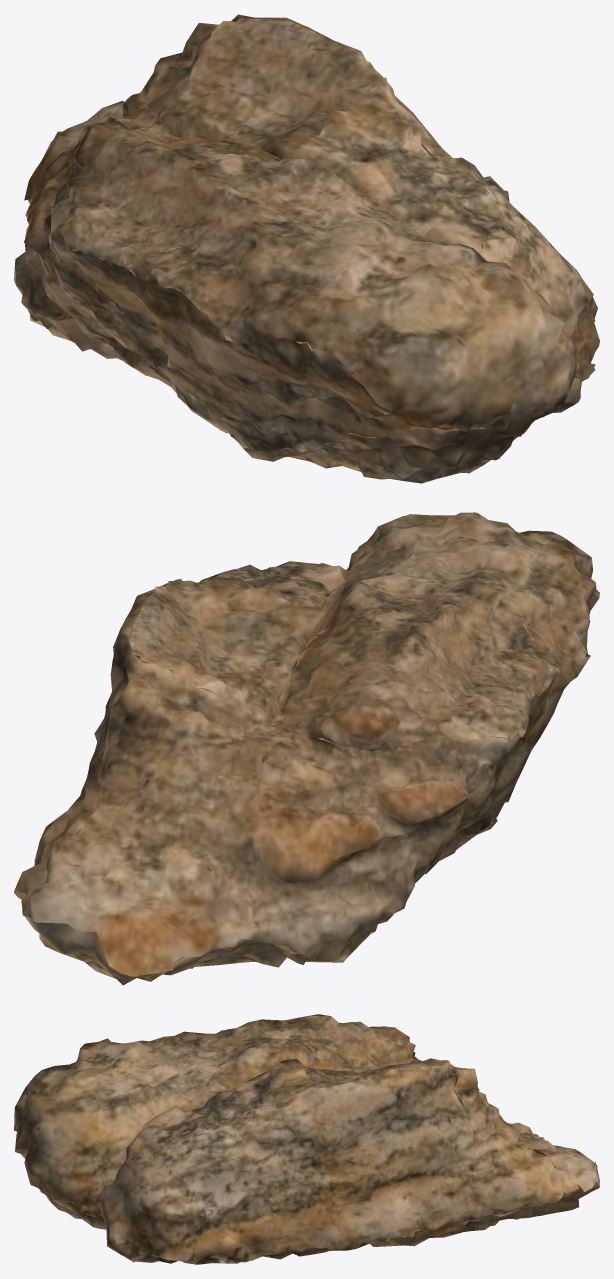
The model's file is boulder_2.glb.
The picture shows the model from 3 angles, top to bottom: view 1: azimuth 30°, elevation 25°; view 2: azimuth 150°, elevation 25°; view 3: azimuth 270°, elevation 25°; orthographic projection. The views are drawn at different scales.
Parts seen in each view (by area): view 1: SCENERY_boulder_2; view 2: SCENERY_boulder_2; view 3: SCENERY_boulder_2.
Boxes of the visible parts, bbox=[...] form: SCENERY_boulder_2: bbox=[14, 14, 599, 483]; SCENERY_boulder_2: bbox=[14, 512, 599, 985]; SCENERY_boulder_2: bbox=[14, 1014, 599, 1264].
Bounding box in the file's own units: 0.8727 × 0.5365 × 1.5.
1 material, 1 textured.
